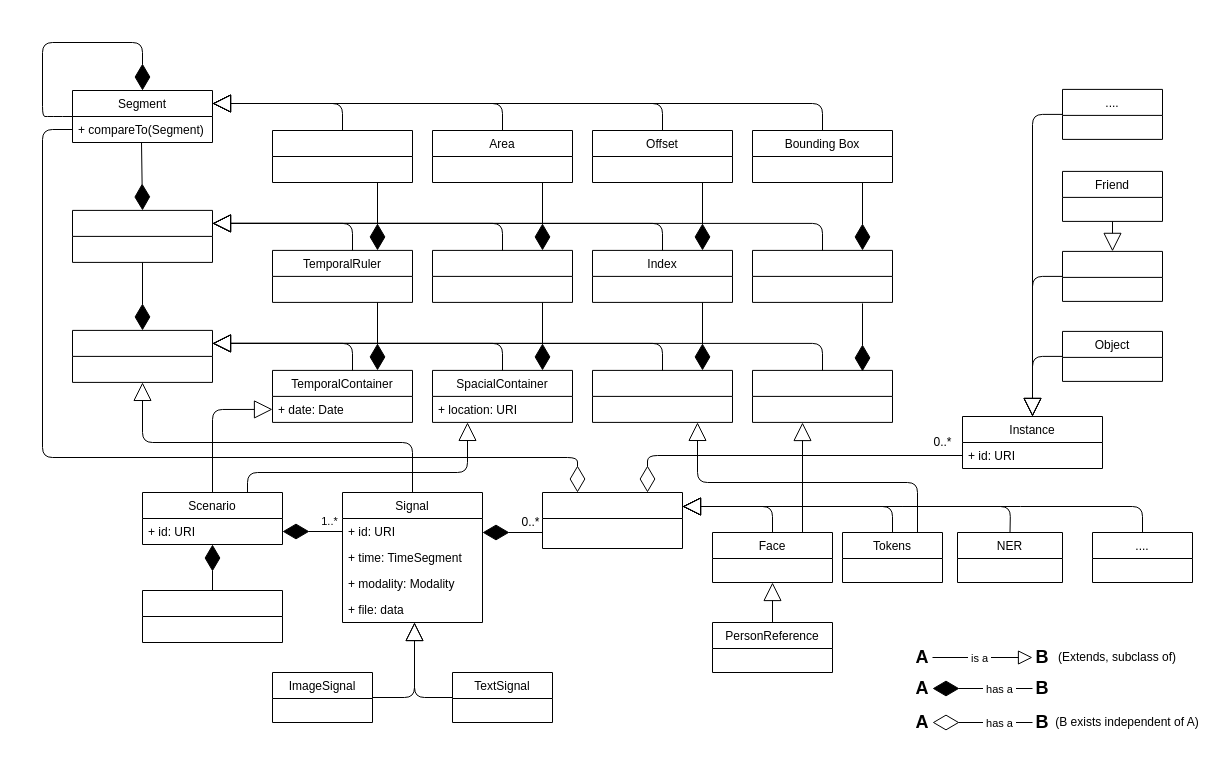
The diagram is 1220 pixels wide and 766 high, and some of its shapes have lost their labels. Here are the shapes that lost their labels. From the top down, the centre of each, then its label:
At [342,156]: "TimeSegment".
At [142,235]: "Ruler".
At [502,275]: "Coordinates".
At [822,275]: "MultiIndex".
At [1112,275]: "Person".
At [142,355]: "Container".
At [662,395]: "Sequence".
At [822,395]: "Array".
At [612,520]: "Mention/Annotation".
At [212,616]: "ScenarioContext".
